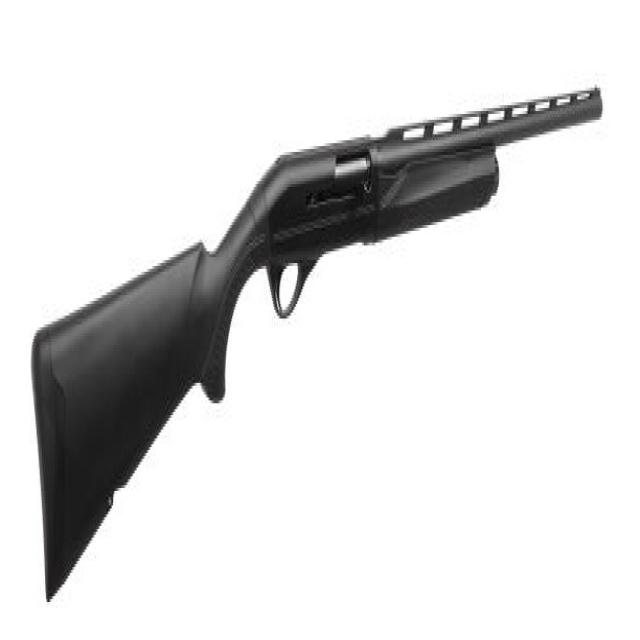rifle: (31, 77, 609, 613)
